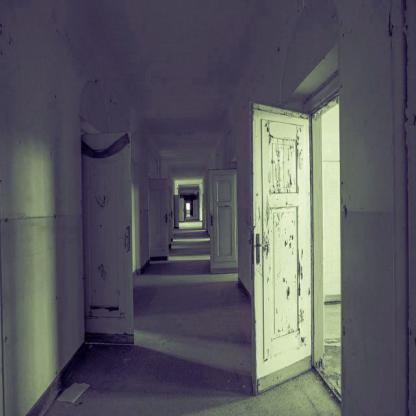door: (245, 50, 346, 409)
